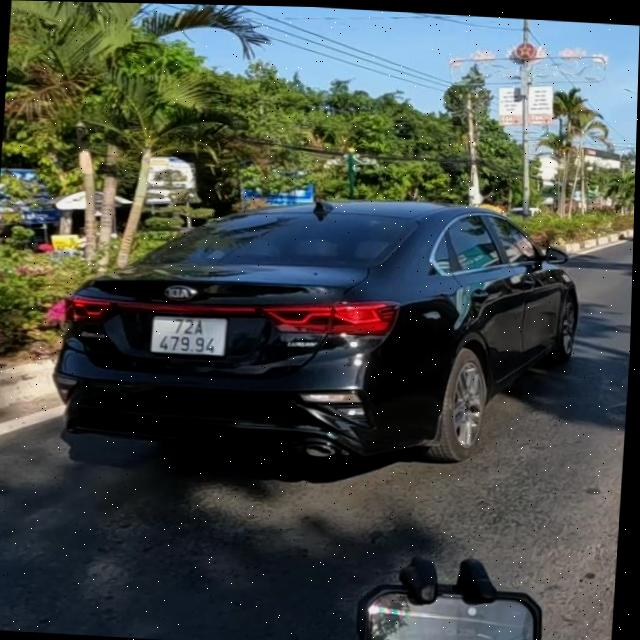car: (47, 177, 596, 495)
plate: (142, 311, 232, 363)
